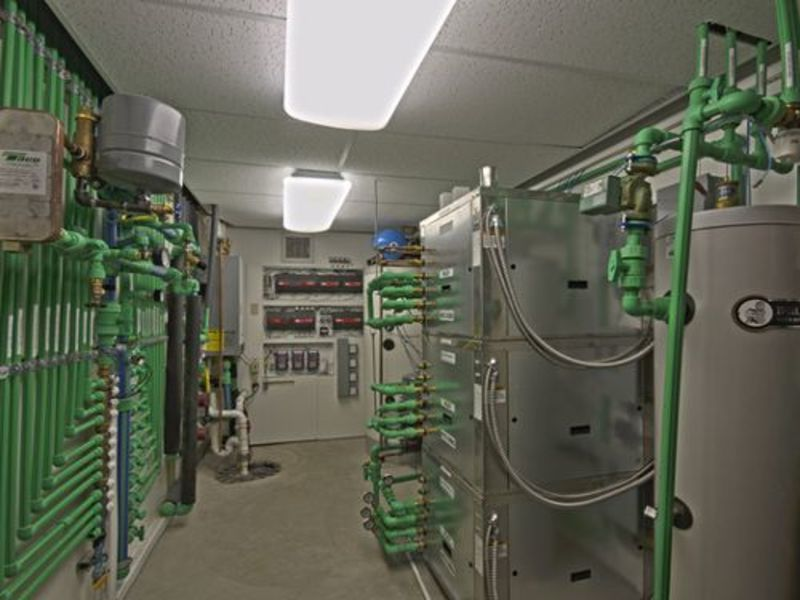valve: (113, 209, 160, 231)
